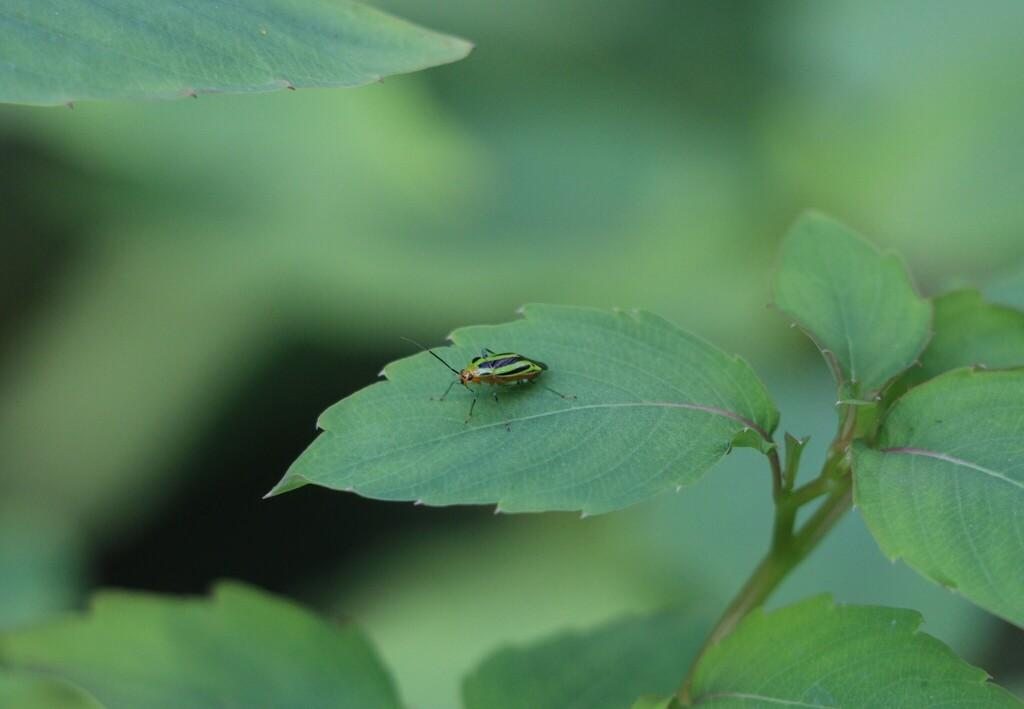plant_bugs: (379, 323, 590, 449)
